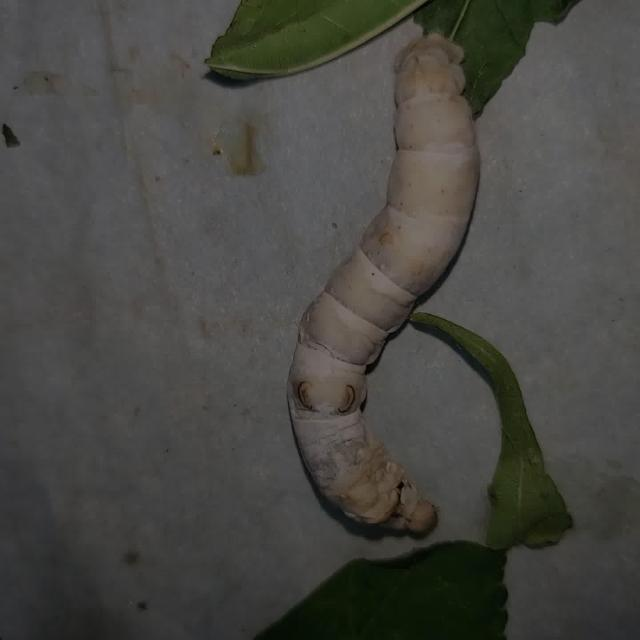Grasserie: (267, 15, 534, 552)
